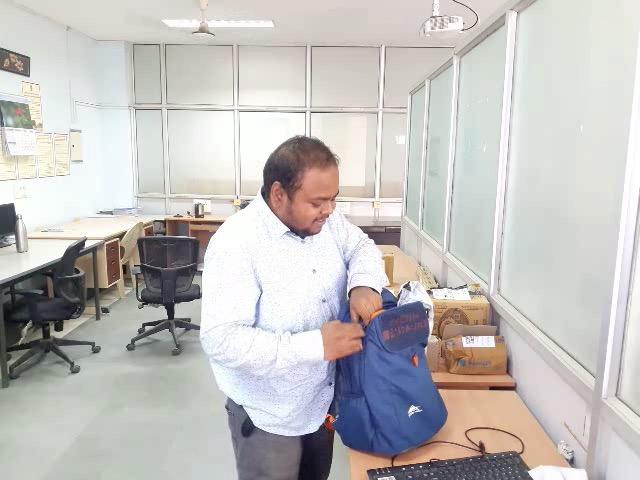shoplifting: (186, 237, 487, 480)
